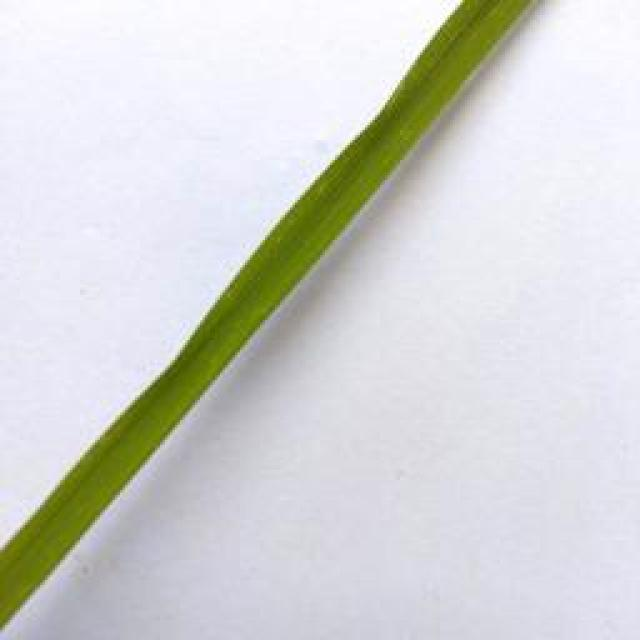Healthy-Plant: (106, 40, 486, 473)
